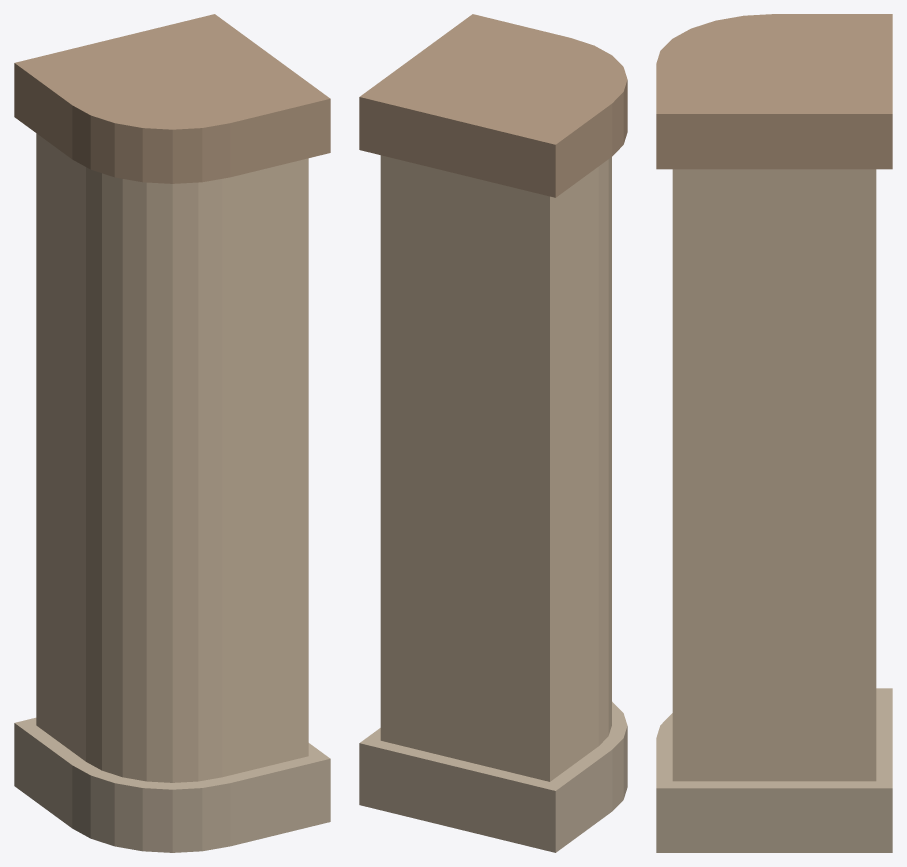
The model's file is city_facade_corner.glb.
3 renders of one model, left to right at view 1: azimuth 30°, elevation 25°; view 2: azimuth 150°, elevation 25°; view 3: azimuth 270°, elevation 25°, orthographic. The views are drawn at different scales.
Visible parts, largest first — view 1: CityFacadeCorner_Pier, CityFacadeCorner_Band, CityFacadeCorner_Plinth; view 2: CityFacadeCorner_Pier, CityFacadeCorner_Band, CityFacadeCorner_Plinth; view 3: CityFacadeCorner_Pier, CityFacadeCorner_Band, CityFacadeCorner_Plinth.
Part boxes in pixels (left/top/right/bottom): CityFacadeCorner_Pier: left=36, top=133, right=308, bottom=782; CityFacadeCorner_Band: left=14, top=14, right=330, bottom=183; CityFacadeCorner_Plinth: left=14, top=717, right=330, bottom=852; CityFacadeCorner_Pier: left=380, top=155, right=611, bottom=781; CityFacadeCorner_Band: left=359, top=14, right=627, bottom=197; CityFacadeCorner_Plinth: left=359, top=701, right=627, bottom=852; CityFacadeCorner_Pier: left=672, top=169, right=876, bottom=781; CityFacadeCorner_Band: left=656, top=14, right=892, bottom=169; CityFacadeCorner_Plinth: left=656, top=688, right=892, bottom=852.
Size of the model in its own units: 1.16 by 4 by 1.16.
